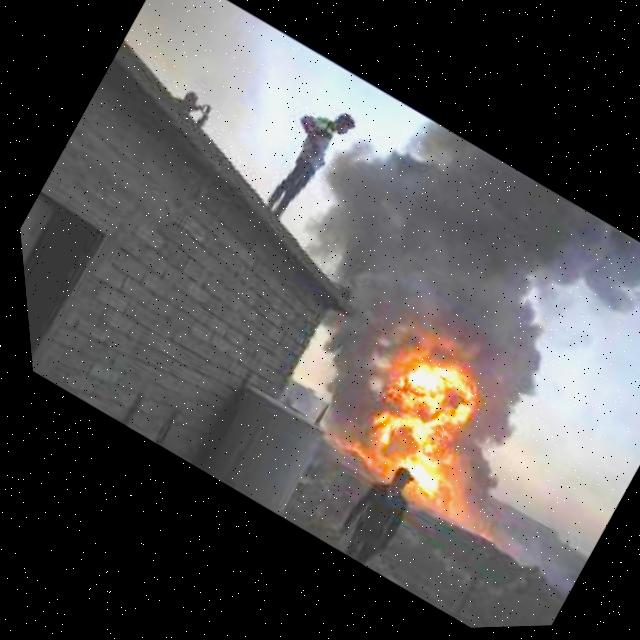Fire: (321, 319, 522, 521), (471, 529, 486, 542)
Smoke: (257, 80, 640, 448)
